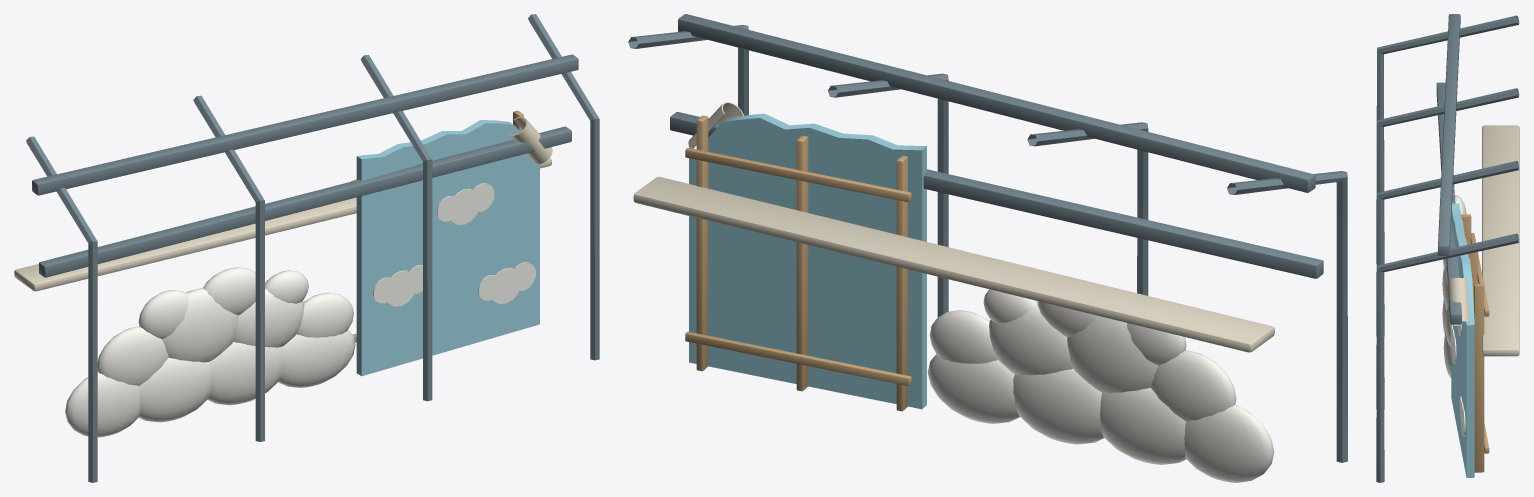
File: playroom-cloud-corridor-pack.glb
The picture shows the model from 3 angles, left to right: view 1: azimuth 30°, elevation 25°; view 2: azimuth 150°, elevation 25°; view 3: azimuth 270°, elevation 25°; orthographic projection. The views are drawn at different scales.
Visible parts, largest first — view 1: Painted cloud foam, Painted maintenance steel.002, Sky wallpaper face.001, Clean aged cream vinyl.003; view 2: Sky wallpaper face.001, Painted cloud foam, Painted maintenance steel.002, Clean aged cream vinyl.003, Pale sealed wood.002; view 3: Painted maintenance steel.002, Clean aged cream vinyl.003, Sky wallpaper face.001, Pale sealed wood.002, Painted cloud foam.
Part boxes in pixels (bbox=[...]): Painted cloud foam: bbox=[65, 183, 535, 437]; Painted maintenance steel.002: bbox=[26, 14, 599, 482]; Sky wallpaper face.001: bbox=[356, 120, 539, 376]; Clean aged cream vinyl.003: bbox=[14, 116, 552, 291]; Sky wallpaper face.001: bbox=[689, 113, 926, 409]; Painted cloud foam: bbox=[927, 289, 1273, 482]; Painted maintenance steel.002: bbox=[628, 14, 1347, 462]; Clean aged cream vinyl.003: bbox=[633, 102, 1274, 352]; Pale sealed wood.002: bbox=[685, 115, 911, 411]; Painted maintenance steel.002: bbox=[1376, 14, 1519, 482]; Clean aged cream vinyl.003: bbox=[1447, 125, 1519, 356]; Sky wallpaper face.001: bbox=[1451, 203, 1474, 477]; Pale sealed wood.002: bbox=[1461, 214, 1489, 472]; Painted cloud foam: bbox=[1442, 195, 1466, 436].
Size of the model in its own units: 16.09 by 8.12 by 4.17.
